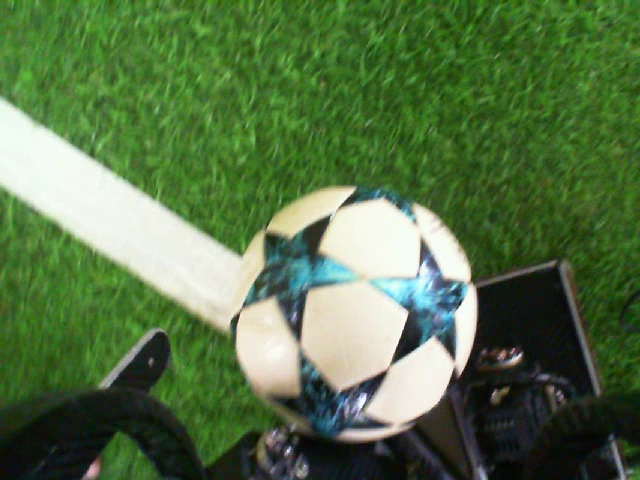ball: (226, 181, 480, 445)
